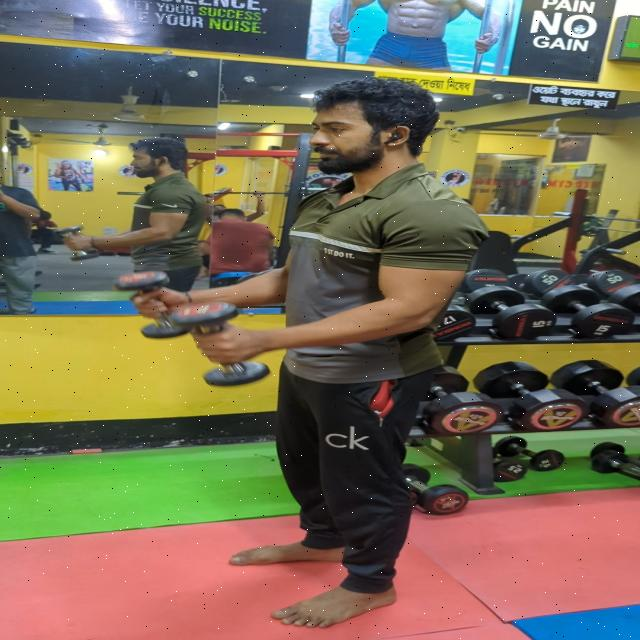Normal_DumbbellBicepCurls: (107, 96, 610, 634)
